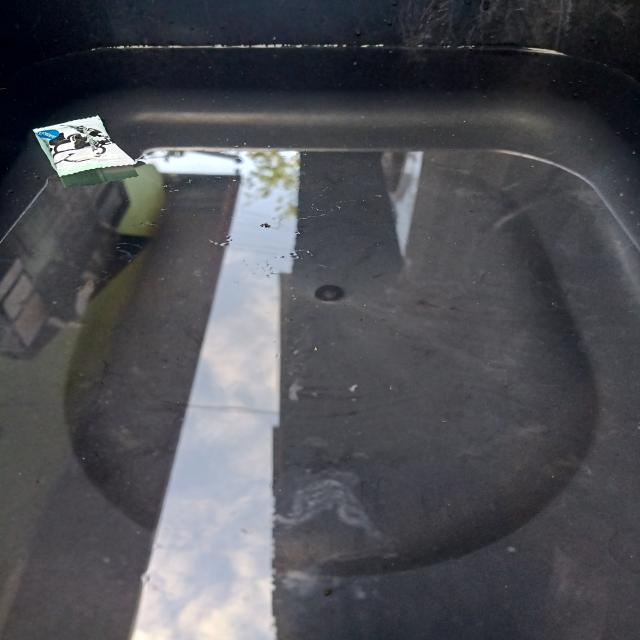Plastic Wrapper: (26, 114, 154, 191)
